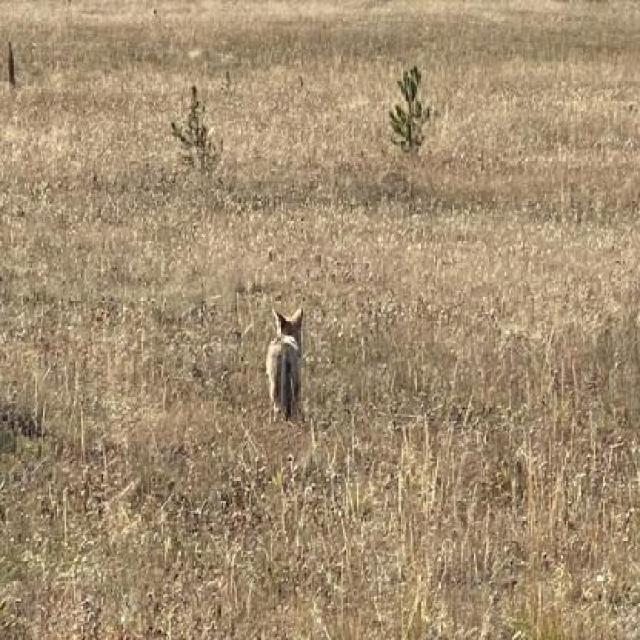Coyote: (265, 308, 303, 422)
